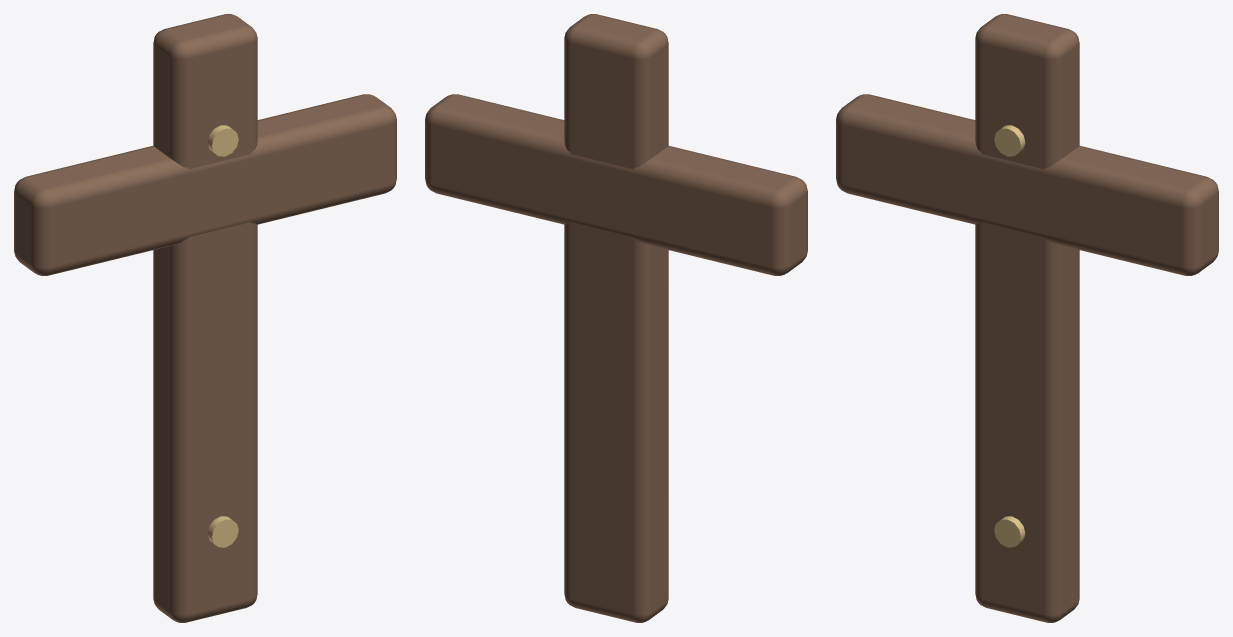
Rendered from paranormal-investigation-house-generic-crucifix-81fcb83d__26786.glb.
The picture shows the model from 3 angles, left to right: view 1: azimuth 30°, elevation 25°; view 2: azimuth 150°, elevation 25°; view 3: azimuth 330°, elevation 25°; orthographic projection.
Parts seen in each view (by area): view 1: generic-crucifix; view 2: generic-crucifix; view 3: generic-crucifix.
Boxes of the visible parts, x1,y1,x2,y2 form: generic-crucifix: (14, 14, 396, 622); generic-crucifix: (425, 14, 807, 622); generic-crucifix: (836, 14, 1218, 622).
Size of the model in its own units: 0.19 by 0.29 by 0.0315.
